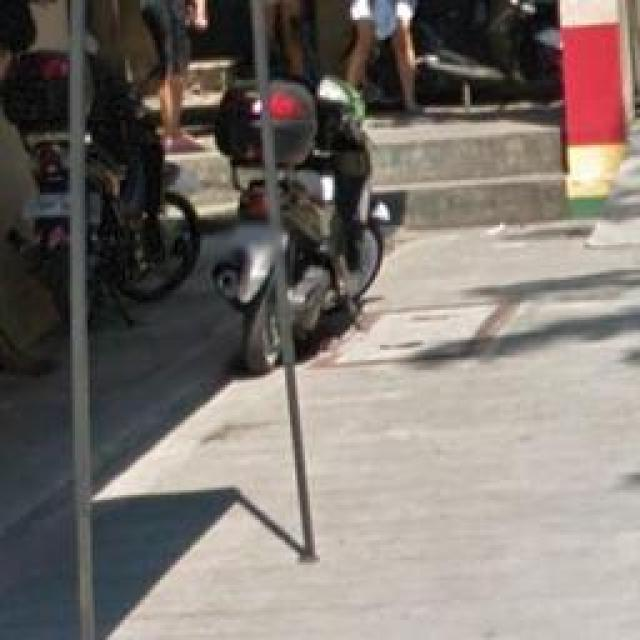motorcycle: (22, 46, 206, 332), (225, 59, 378, 376)
